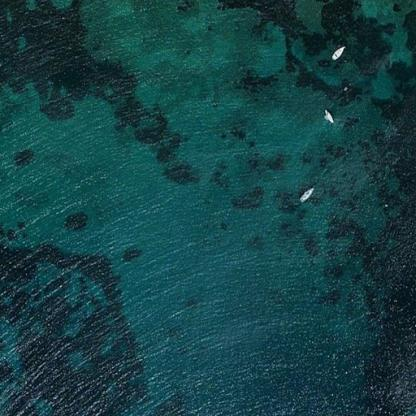ship: (291, 179, 318, 207), (325, 40, 352, 64), (318, 104, 338, 126)
